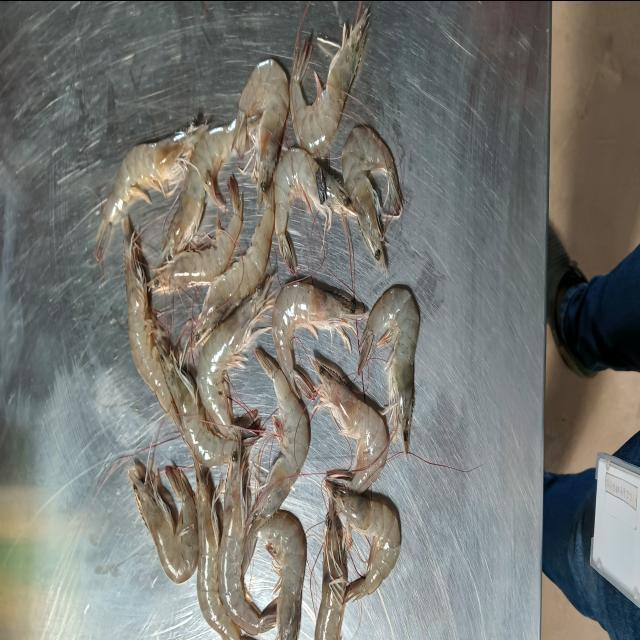shrimp: (95, 124, 208, 261), (121, 215, 184, 436), (194, 182, 275, 343), (161, 111, 246, 261), (196, 275, 272, 436), (290, 7, 369, 157), (155, 323, 235, 466), (219, 439, 276, 636), (149, 175, 244, 292), (271, 281, 365, 399), (195, 461, 255, 640), (311, 357, 389, 492), (274, 146, 356, 273), (359, 286, 420, 454), (251, 348, 310, 518), (325, 478, 401, 602), (341, 124, 402, 273), (128, 458, 199, 582), (242, 509, 306, 640), (239, 58, 289, 202), (315, 496, 348, 640)
